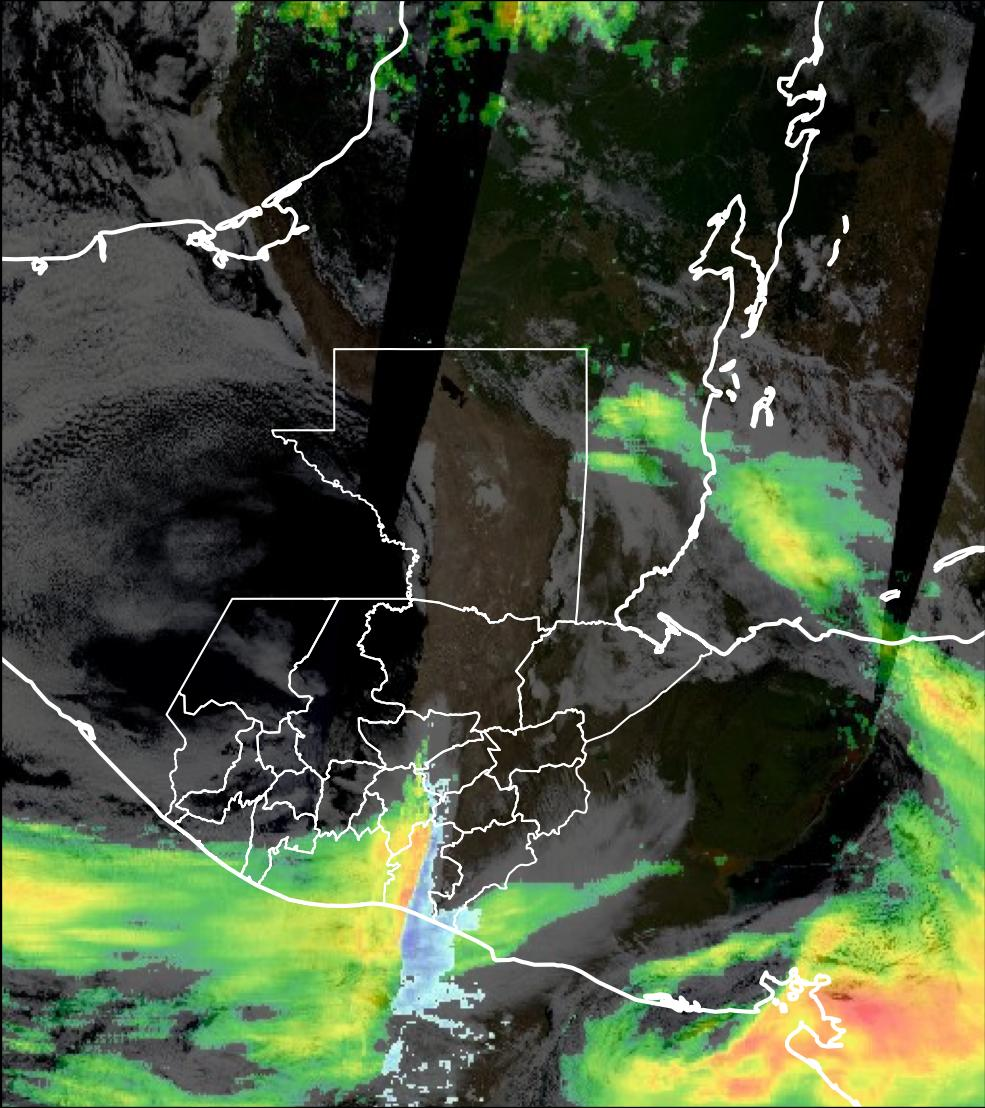precipitacion: (783, 941, 985, 1094)
